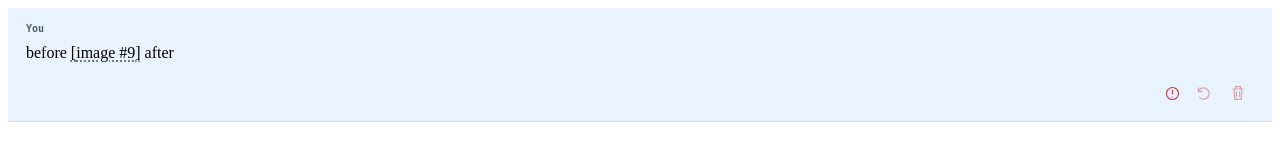
Test: renders pending images in their original positions and uses authorized preview locators
Click the button with aria-label "Preview image #9".
click(106, 53)  # box [71,44,141,62]
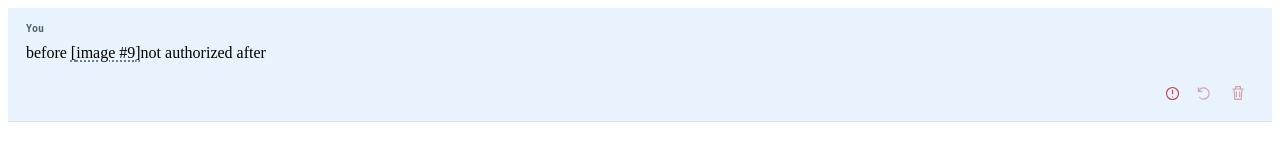
Check: the text "not authorized" is shown, box [141,44,233,61]
